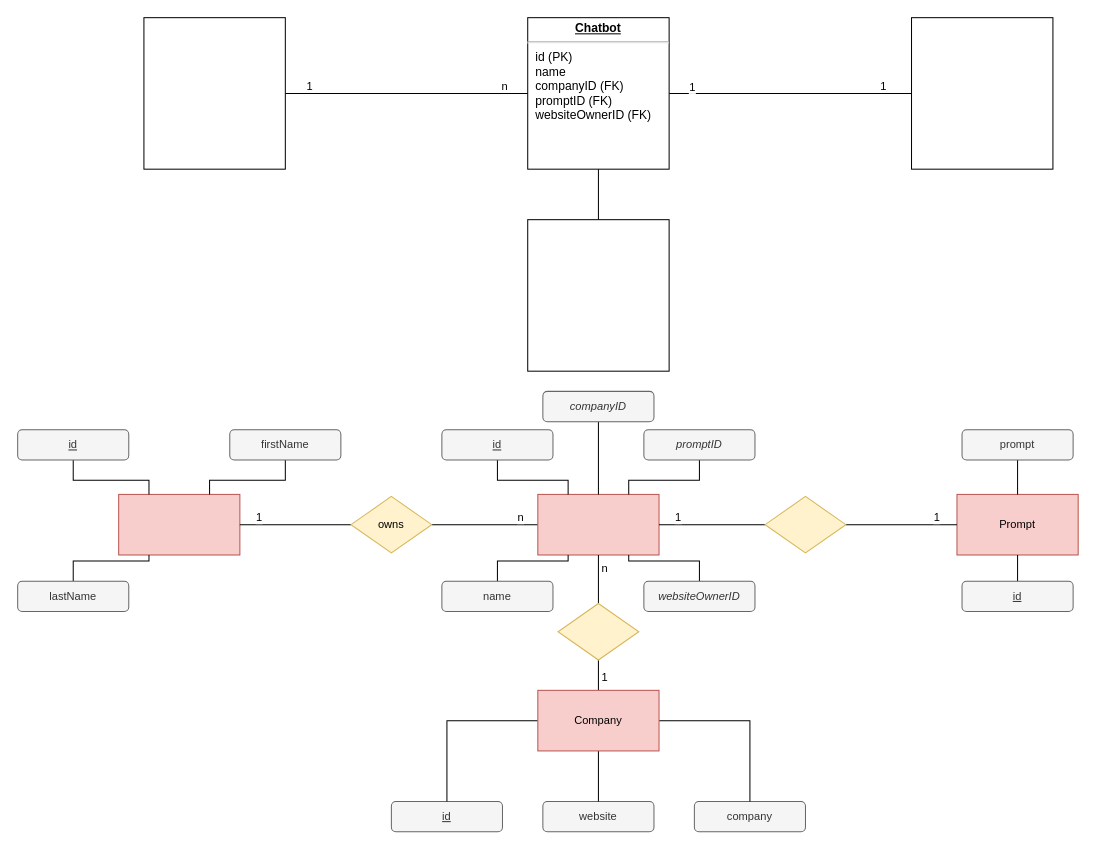
This 1096x849 diagram has some shape labels left out. Each missing label, with the box of its shape:
belongs to: (557, 602, 639, 660)
Chatbot: (537, 493, 659, 555)
Company id (PK) company website: (527, 219, 669, 371)
has: (764, 495, 846, 553)
Prompt id (PK) prompt: (911, 17, 1053, 169)
WebsiteOwner: (118, 493, 240, 555)
WebsiteOwner id (PK) firstName lastName: (143, 17, 285, 169)
